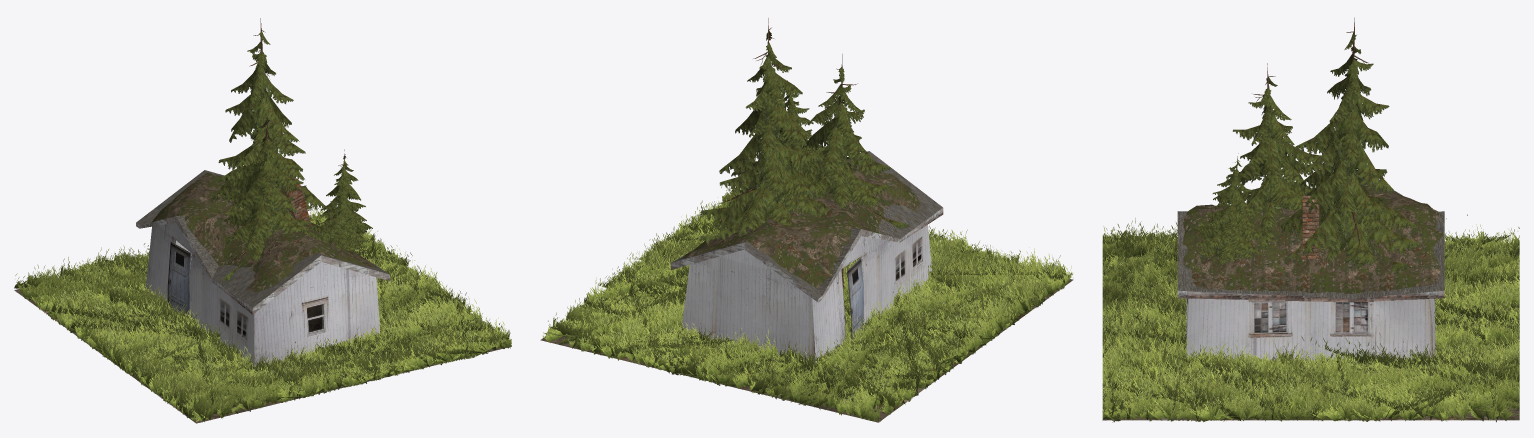
File: abandoned_house.glb
The picture shows the model from 3 angles, left to right: view 1: azimuth 30°, elevation 25°; view 2: azimuth 150°, elevation 25°; view 3: azimuth 270°, elevation 25°; orthographic projection. The views are drawn at different scales.
Visible parts, largest first — view 1: object 2, object 4, leaf_tree_leaf_0, object 1, object 7, object 6, object 5; view 2: object 2, leaf_tree_leaf_0, object 4, object 1, object 7, object 6; view 3: object 2, leaf_tree_leaf_0, object 1, object 4, object 7, object 6, object 5.
Part boxes in pixels (bbox=[...]): object 2: bbox=[14, 207, 511, 422]; object 4: bbox=[145, 222, 379, 366]; leaf_tree_leaf_0: bbox=[211, 18, 372, 298]; object 1: bbox=[14, 172, 509, 423]; object 7: bbox=[136, 170, 388, 307]; object 6: bbox=[136, 216, 389, 314]; object 5: bbox=[282, 177, 311, 225]; object 2: bbox=[542, 183, 1072, 421]; leaf_tree_leaf_0: bbox=[699, 18, 909, 290]; object 4: bbox=[681, 224, 931, 363]; object 1: bbox=[540, 157, 1073, 422]; object 7: bbox=[671, 151, 942, 298]; object 6: bbox=[670, 208, 943, 302]; object 2: bbox=[1102, 214, 1519, 422]; leaf_tree_leaf_0: bbox=[1192, 17, 1422, 335]; object 1: bbox=[1103, 182, 1519, 420]; object 4: bbox=[1186, 298, 1435, 362]; object 7: bbox=[1177, 178, 1444, 298]; object 6: bbox=[1177, 290, 1444, 302]; object 5: bbox=[1302, 195, 1319, 261].
Bounding box in the file's own units: 10.02 × 8.76 × 10.01.
7 materials, 7 textured.
